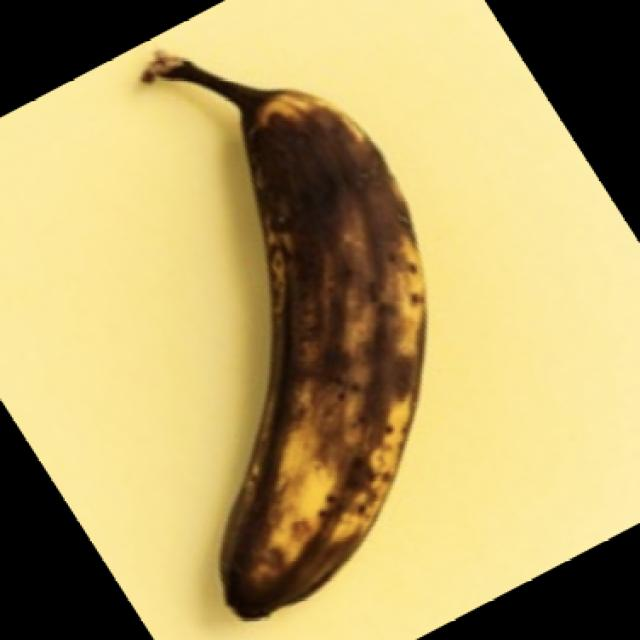overripe: (192, 65, 434, 625)
